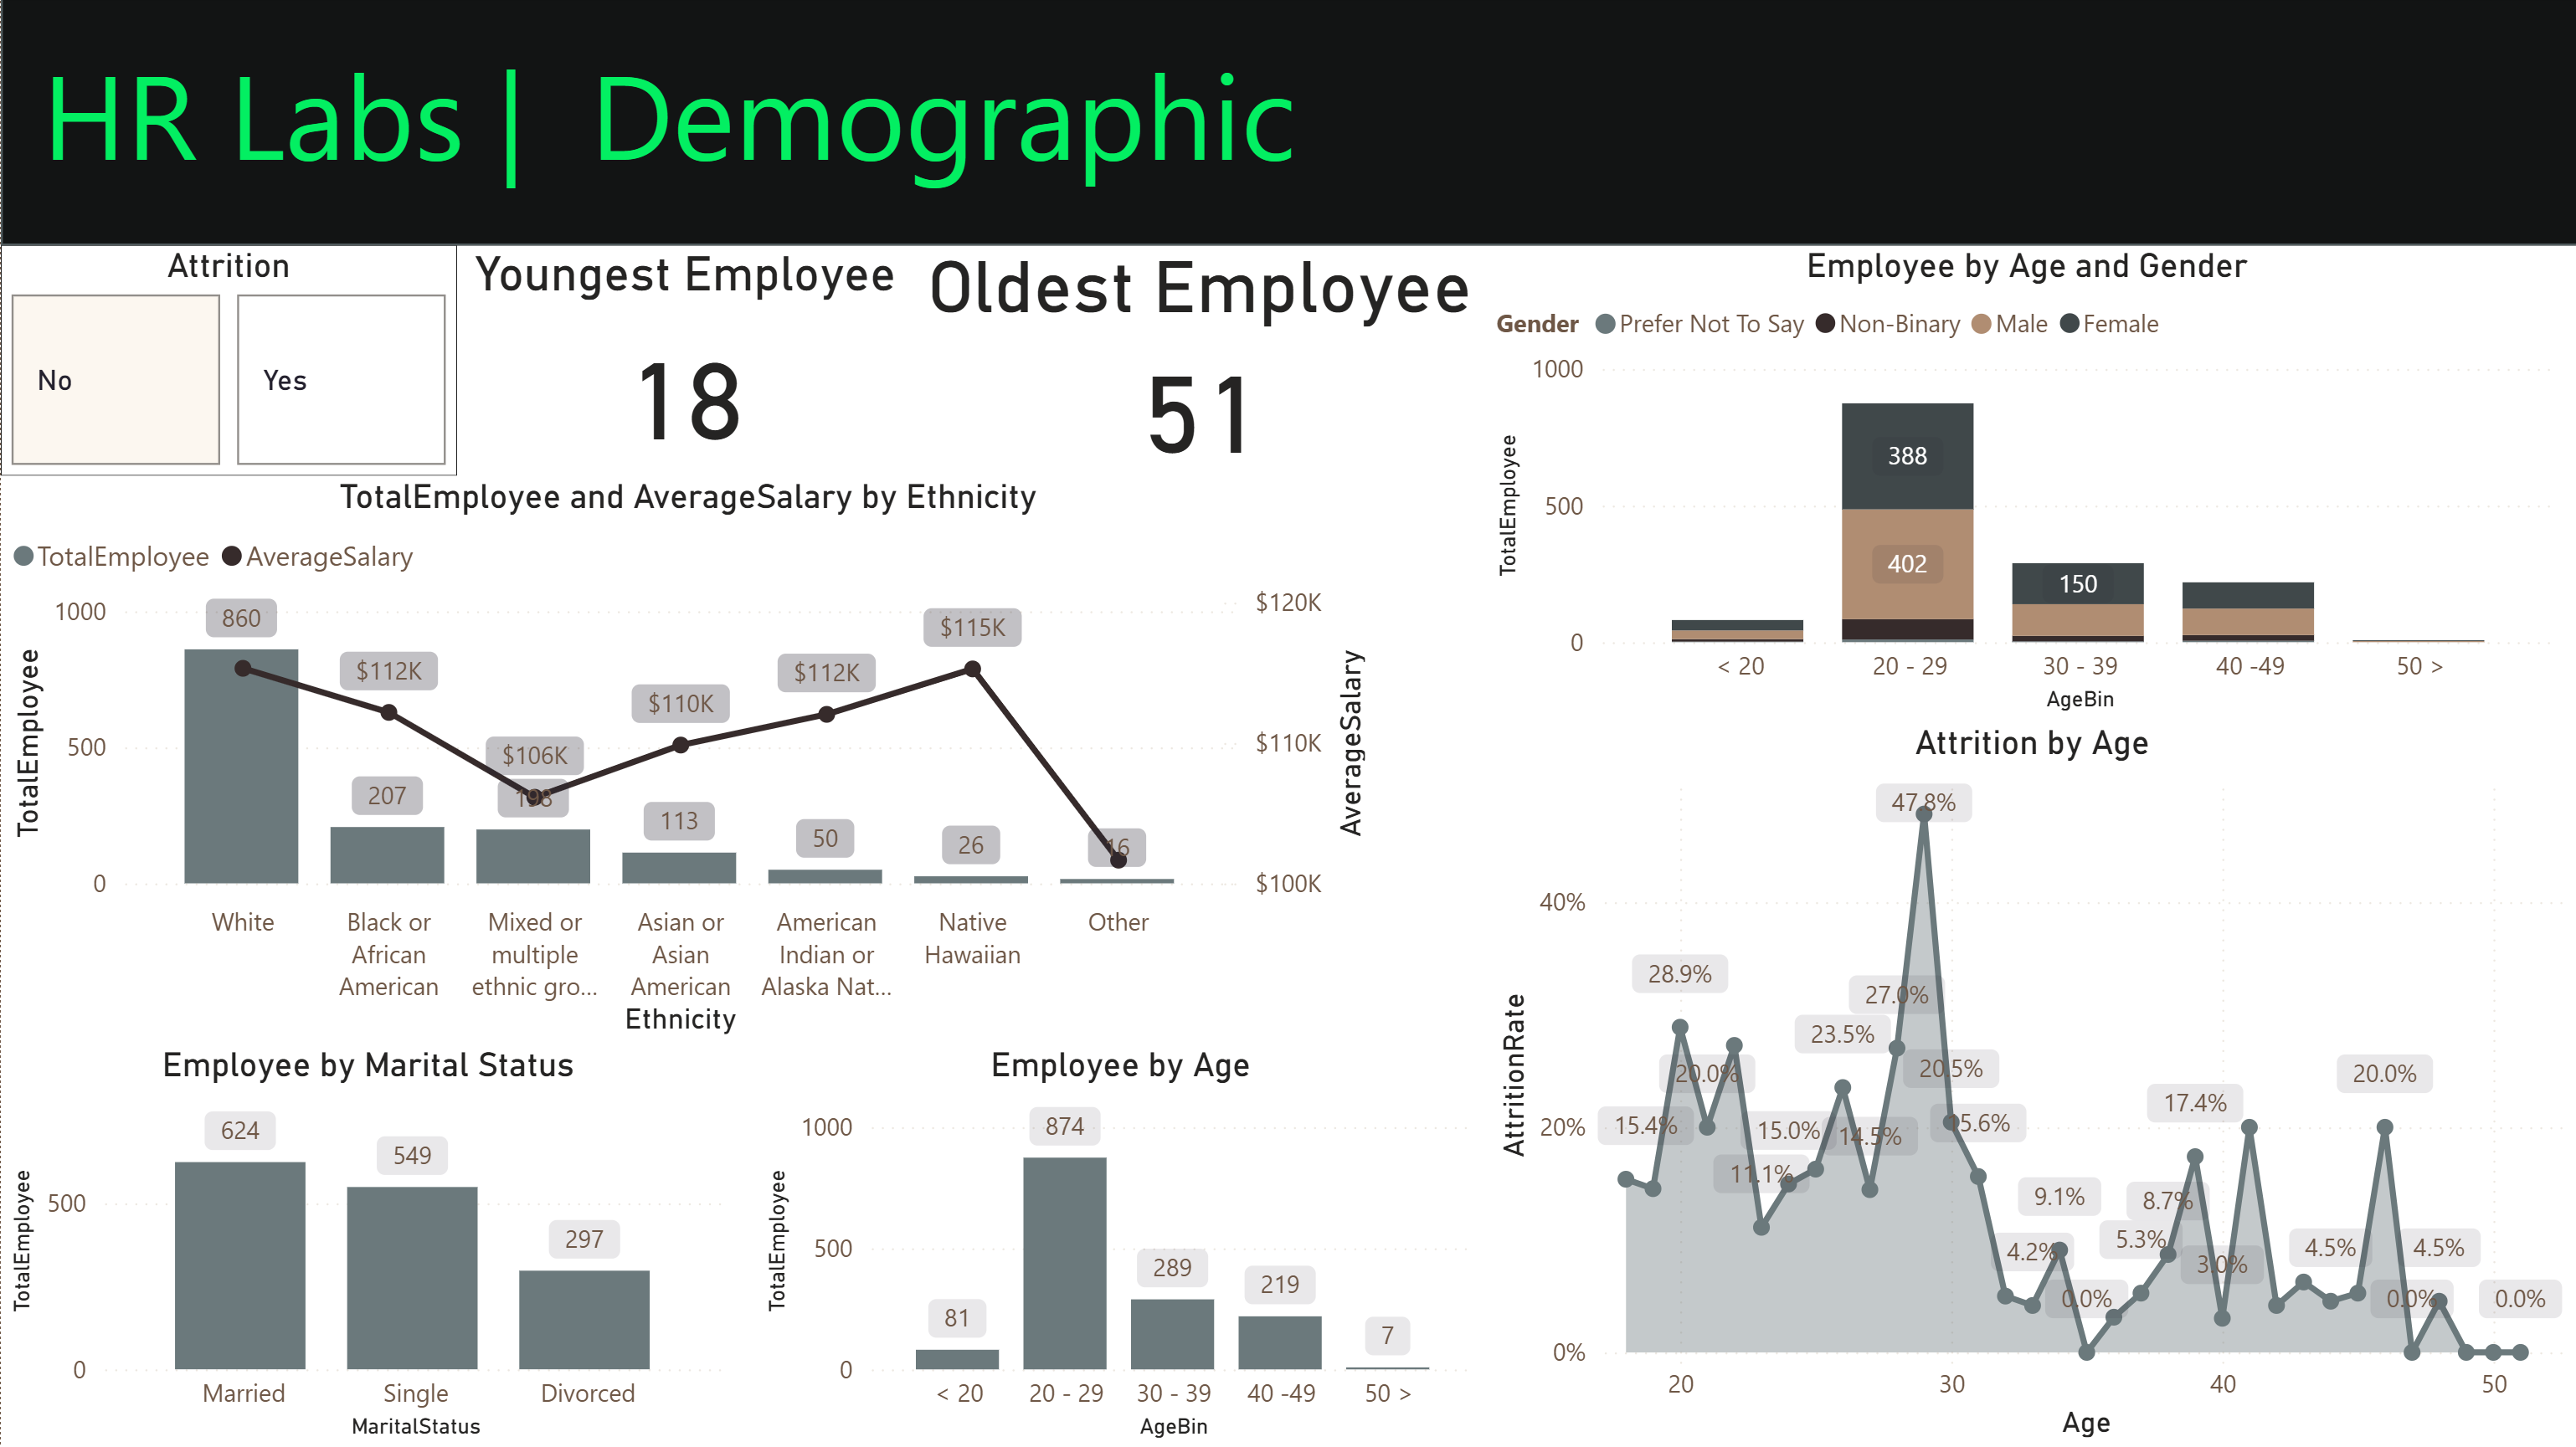

The page's visual inventory and layout, read from the dashboard file:
{"tool":"powerbi","page":{"name":"DemoGraphic","canvas":[1280,720],"ordinal":1},"visuals":[{"type":"card","title":"Youngest Employee","fields":{"Values":["Min(Employee -Dim.Age)"]},"box":[226.3,122.9,226.9,114.4],"z":0},{"type":"card","title":"Oldest Employee","fields":{"Values":["Max(Employee -Dim.Age)"]},"box":[453.2,122.9,284.5,114.4],"z":1000},{"type":"clusteredColumnChart","title":"Employee by Age","fields":{"Category":["Employee -Dim.AgeBin"],"Y":["_Measures.TotalEmployee"]},"box":[374.7,519.8,362.7,200.3],"z":2000},{"type":"columnChart","title":"Employee by Age and Gender","fields":{"Category":["Employee -Dim.AgeBin"],"Y":["_Measures.TotalEmployee"],"Series":["Employee -Dim.Gender"]},"box":[737.4,123.1,537.1,236.3],"z":3000},{"type":"advancedSlicerVisual","fields":{"Values":["Employee -Dim.Attrition"]},"box":[0,122.9,226.3,114.4],"z":4000},{"type":"columnChart","title":"Employee by Marital Status","fields":{"Y":["_Measures.TotalEmployee"],"Category":["Employee -Dim.MaritalStatus"]},"box":[0,519.9,364.9,200.1],"z":5000},{"type":"lineStackedColumnComboChart","fields":{"Category":["Employee -Dim.Ethnicity"],"Y":["_Measures.TotalEmployee"],"Y2":["_Measures.AverageSalary"]},"box":[0,237.9,682.6,282.3],"z":6000},{"type":"shape","box":[0,0,1280.6,123.2],"z":7000},{"type":"textbox","box":[15.6,12.1,956.1,92],"z":8000},{"type":"areaChart","title":"Attrition by Age","fields":{"Category":["Employee -Dim.Age"],"Y":["_Measures.AttritionRate"]},"box":[737.7,359.7,542.1,360.3],"z":9000}]}

Visuals, with their boxes in screenshot pixels (x1, y1, x2, y2), scaled from the page's 1280x720 canvas onto the 2576x1447 screenshot:
"Youngest Employee" card: [455, 247, 912, 477]
"Oldest Employee" card: [912, 247, 1484, 477]
"Employee by Age" clusteredColumnChart: [754, 1044, 1484, 1446]
"Employee by Age and Gender" columnChart: [1484, 248, 2565, 722]
advancedSlicerVisual - Employee -Dim.Attrition: [0, 247, 455, 477]
"Employee by Marital Status" columnChart: [0, 1044, 734, 1446]
lineStackedColumnComboChart - Employee -Dim.Ethnicity x _Measures.TotalEmployee: [0, 478, 1374, 1045]
shape: [0, 0, 2575, 248]
textbox: [32, 24, 1956, 209]
"Attrition by Age" areaChart: [1484, 723, 2575, 1446]
